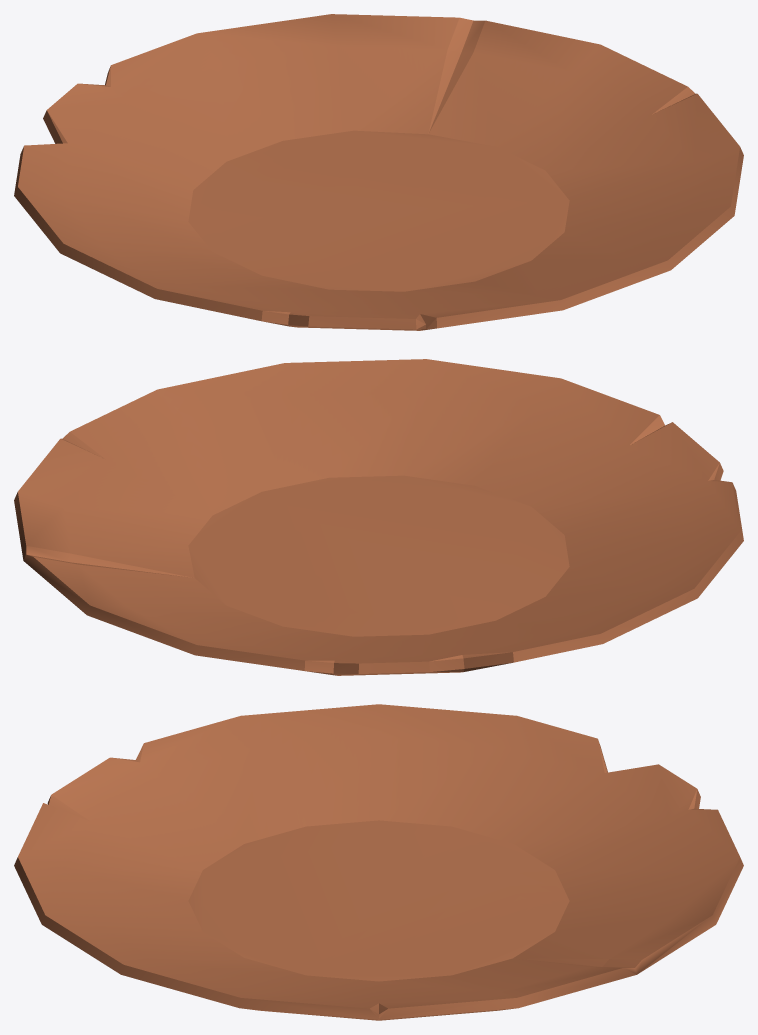
File: obj_plateRound_C.FBX
3 renders of one model, top to bottom at view 1: azimuth 30°, elevation 25°; view 2: azimuth 150°, elevation 25°; view 3: azimuth 270°, elevation 25°, orthographic.
Parts seen in each view (by area): view 1: obj_plateRound_C; view 2: obj_plateRound_C; view 3: obj_plateRound_C.
Boxes of the visible parts, box(x1,y1,x2,y2) form: obj_plateRound_C: box(14, 14, 743, 330); obj_plateRound_C: box(14, 359, 743, 675); obj_plateRound_C: box(14, 704, 743, 1020).
Bounding box in the file's own units: 1.33 × 0.1165 × 1.33.
